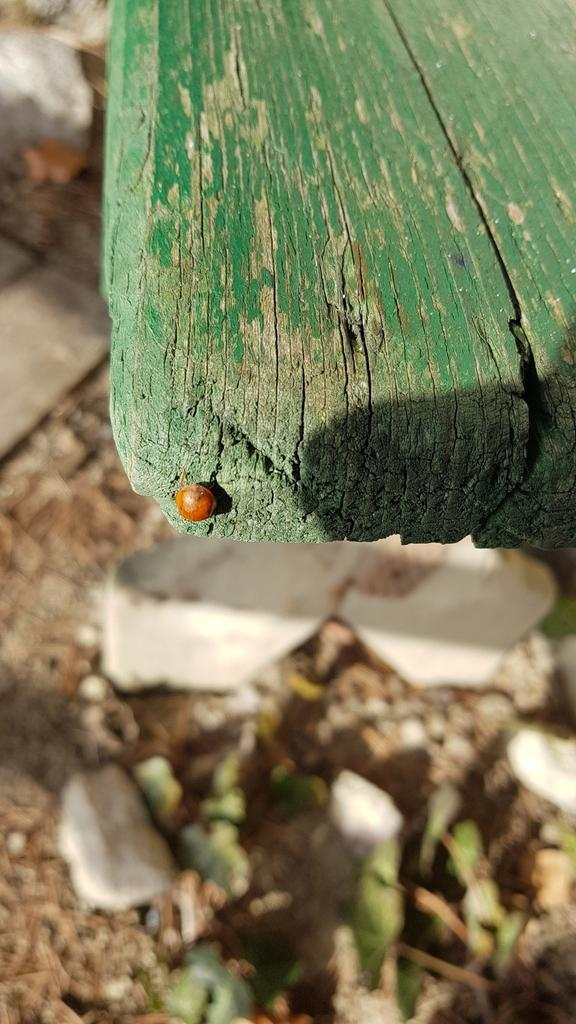ladybug: (176, 482, 221, 524)
